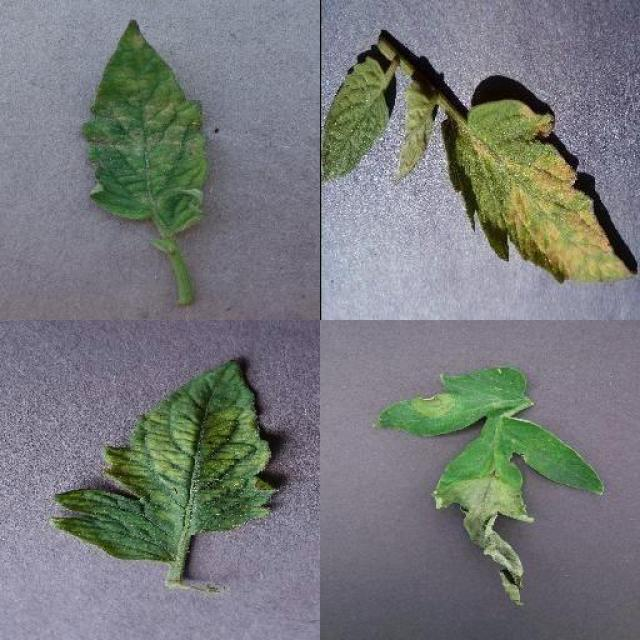Healthy: (320, 55, 392, 183)
Late Blight: (370, 364, 602, 610)
